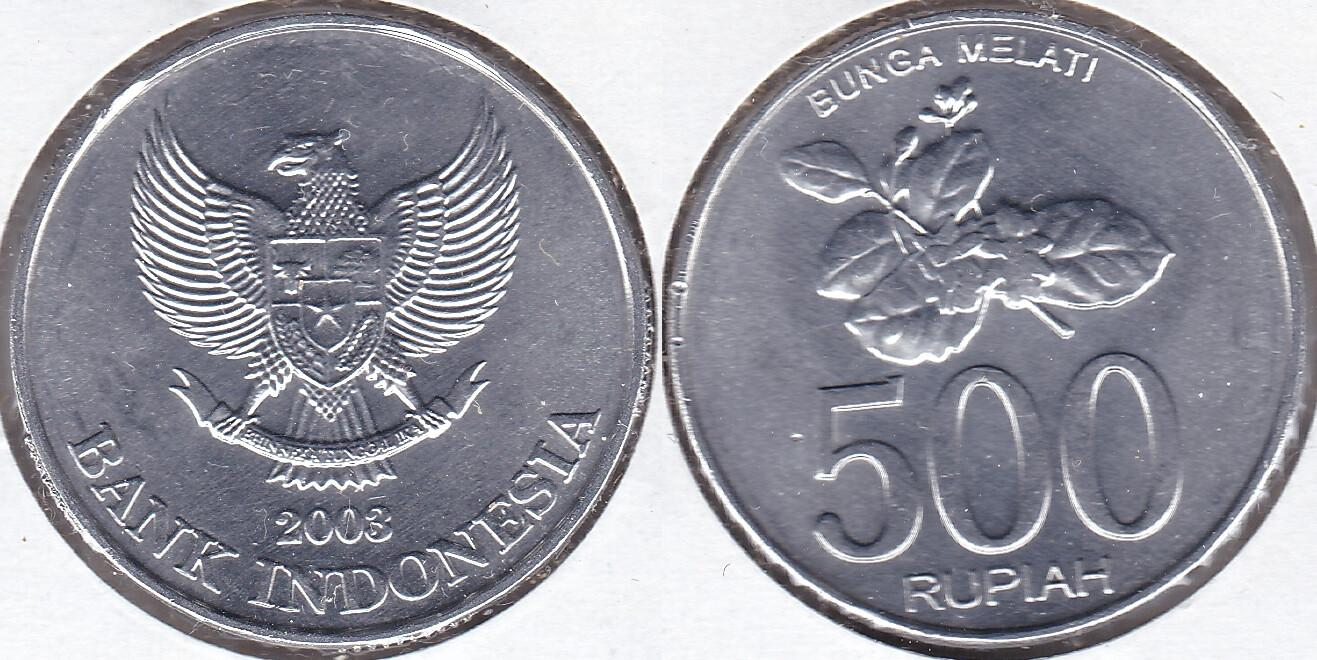coin_500_e2003: (661, 9, 1309, 652), (9, 10, 651, 648)
